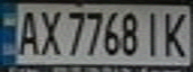6: (103, 8, 124, 57)
7: (81, 7, 106, 56), (63, 7, 84, 56)
8: (118, 9, 142, 57)
A: (12, 7, 42, 56)
I: (139, 8, 166, 57)
K: (160, 8, 193, 59)
X: (33, 7, 63, 56)
